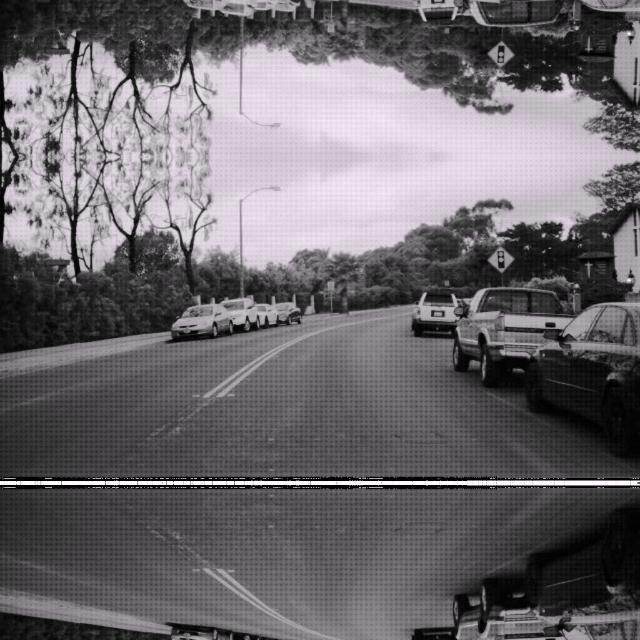signalAhead: (486, 243, 514, 271), (486, 41, 514, 69)
